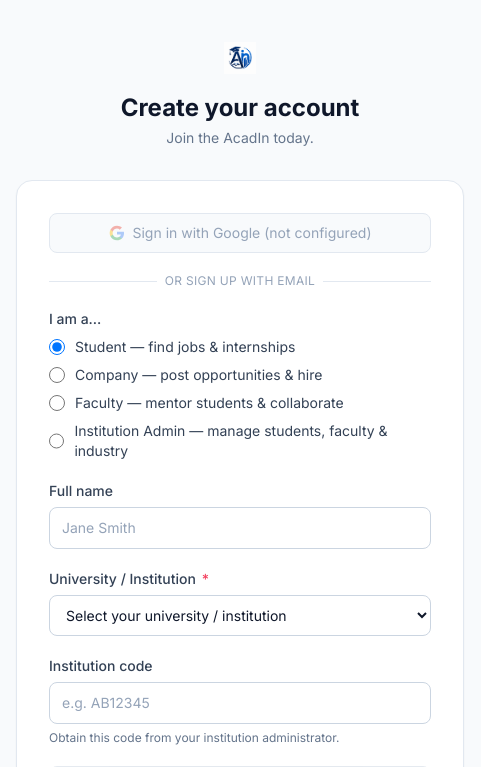
Test case: Register page › shows validation errors when INSTITUTION required fields are missing
The width and height of the screenshot is (481, 767).
Click the radio button labelled "Institution Admin — manage students, faculty & industry" at (57, 441), box [49,433,64,449]
(page scrolled)
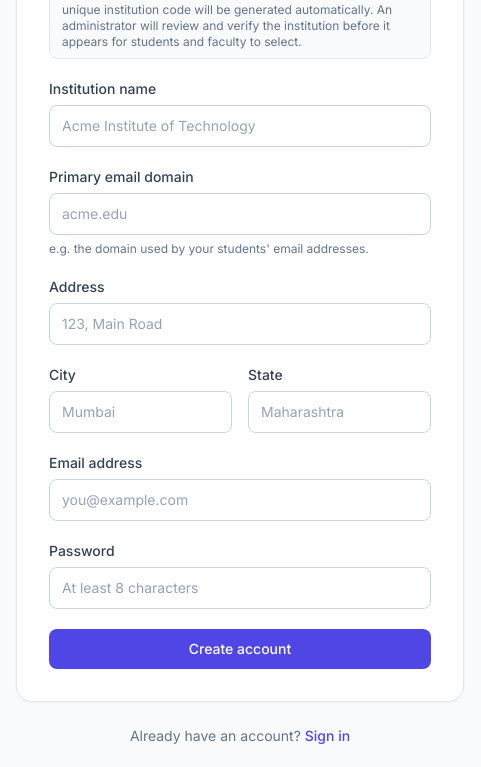
Type "admin@mitbom.edu" into the field labelled "Email address" at (240, 500), box [49,479,431,521]
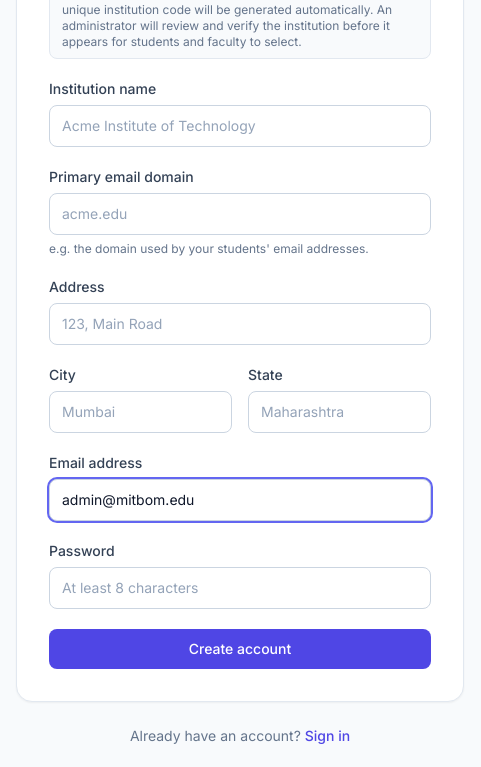
Type "Password1!" into the password field labelled "Password" at (240, 588), box [49,567,431,609]
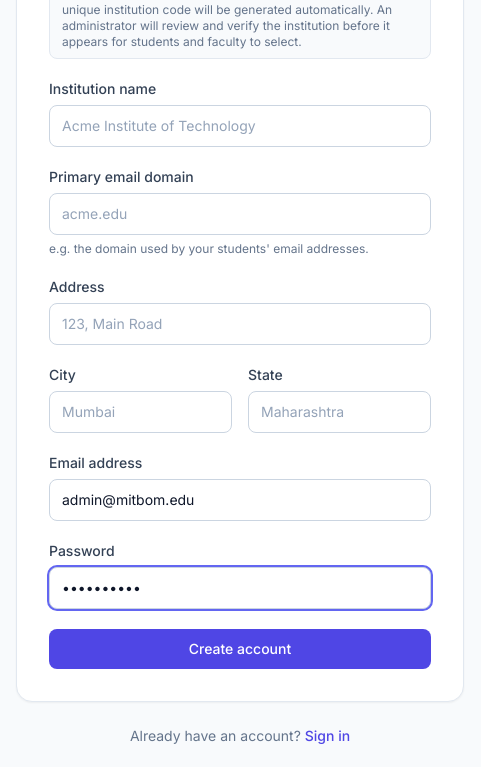
Click the button "Create account" at (240, 649), box [49,629,431,669]
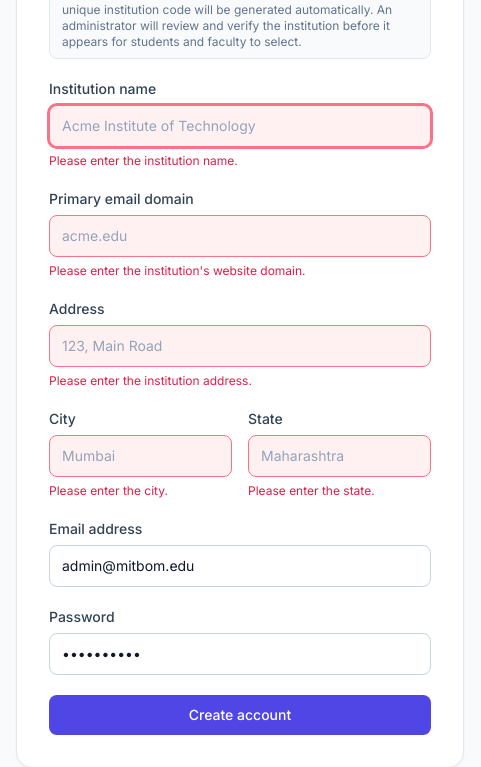
Expected: the message "Please enter the institution name." is shown, [49,153,238,168]
